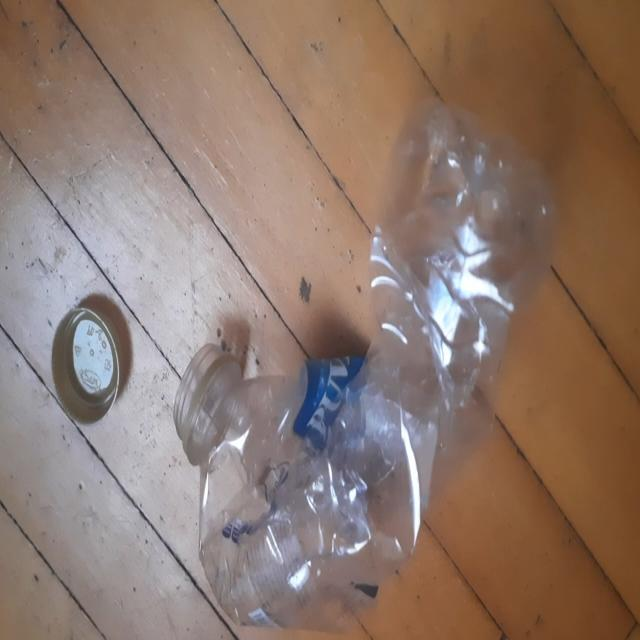Plastic: (173, 97, 557, 628)
